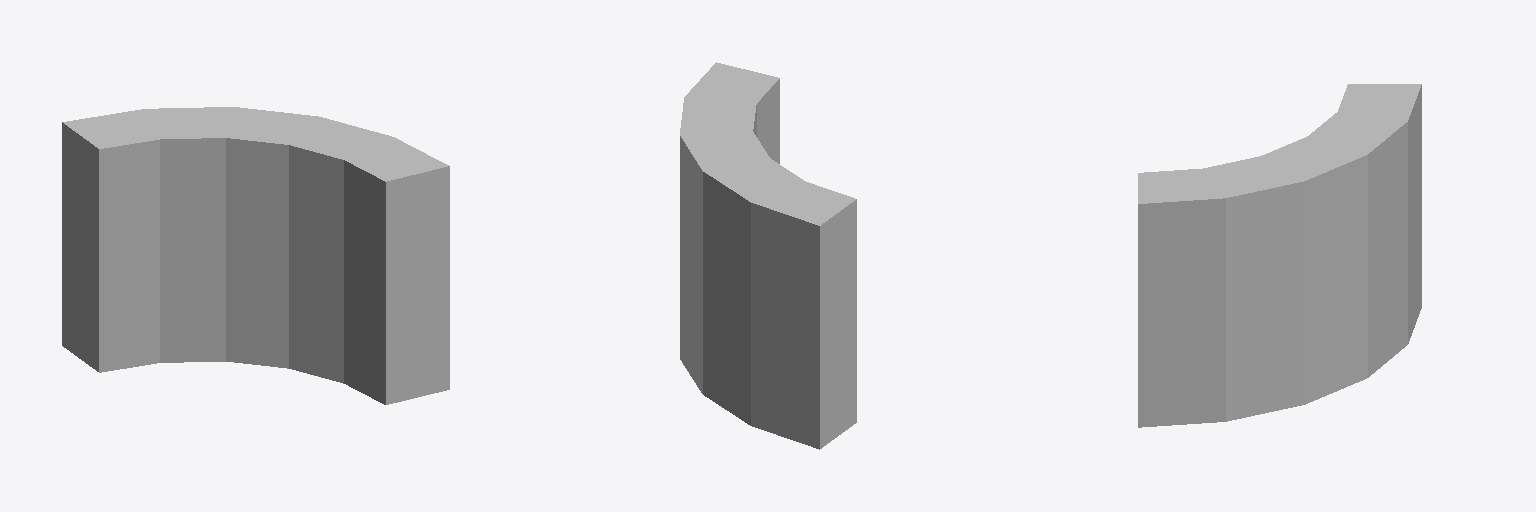
Rendered from struct_wall_curved_main.obj.
3 views of the same model, side by side, from view 1: azimuth 30°, elevation 25°; view 2: azimuth 150°, elevation 25°; view 3: azimuth 270°, elevation 25° (orthographic).
Visible parts, largest first — view 1: struct_wall_curved_main; view 2: struct_wall_curved_main; view 3: struct_wall_curved_main.
Boxes of the visible parts, x1,y1,x2,y2 form: struct_wall_curved_main: [62, 107, 449, 404]; struct_wall_curved_main: [680, 62, 856, 449]; struct_wall_curved_main: [1138, 84, 1421, 427].
Size of the model in its own units: 1.15 by 1 by 1.15.